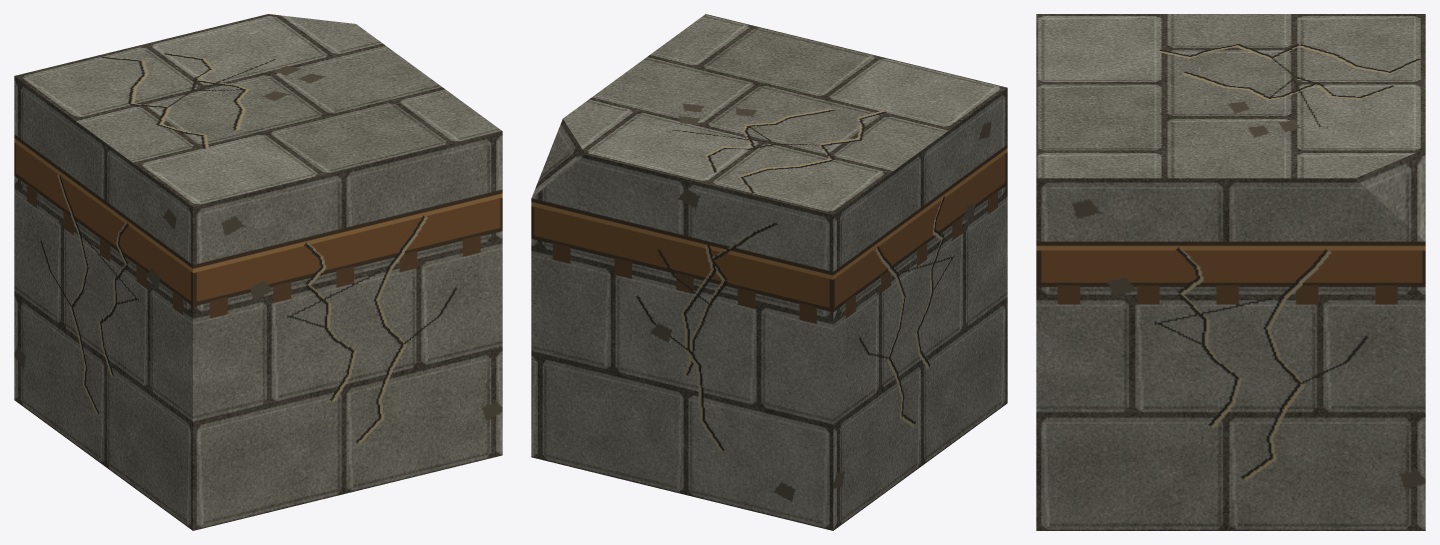
Rendered from tower_z1.glb.
3 views of the same model, side by side, from view 1: azimuth 30°, elevation 25°; view 2: azimuth 150°, elevation 25°; view 3: azimuth 270°, elevation 25° (orthographic). The views are drawn at different scales.
Visible parts, largest first — view 1: tower_z1; view 2: tower_z1; view 3: tower_z1.
Part boxes in pixels (x1,y1,x2,y2): tower_z1: [14, 14, 502, 530]; tower_z1: [531, 14, 1007, 530]; tower_z1: [1036, 14, 1425, 530].
Size of the model in its own units: 1 by 1 by 1.
Materials: 1 (1 with a texture image).
